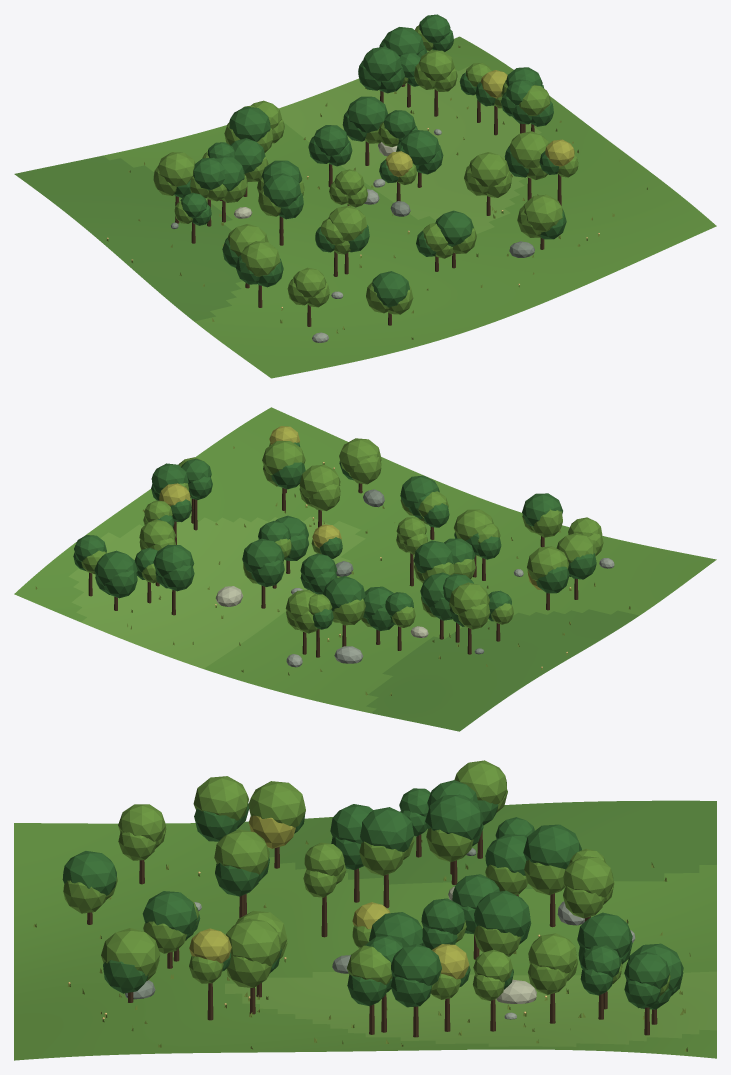
Rendered from Chunk_X1_Y0_Z-2.fbx.
3 renders of one model, top to bottom at view 1: azimuth 30°, elevation 25°; view 2: azimuth 150°, elevation 25°; view 3: azimuth 270°, elevation 25°, orthographic. The views are drawn at different scales.
Parts seen in each view (by area): view 1: Terrain.029, Canopies.028, Trunks.028, Rocks.029; view 2: Terrain.029, Canopies.028, Trunks.028, Rocks.029; view 3: Terrain.029, Canopies.028, Trunks.028, Rocks.029, GroundCover.029.
Part boxes in pixels (<box>): Terrain.029: <box>14,36,716,378</box>; Canopies.028: <box>153,14,578,314</box>; Trunks.028: <box>175,83,561,326</box>; Rocks.029: <box>171,129,534,342</box>; Terrain.029: <box>14,407,716,731</box>; Canopies.028: <box>73,426,603,633</box>; Trunks.028: <box>88,483,578,657</box>; Rocks.029: <box>215,489,614,667</box>; Terrain.029: <box>14,800,716,1060</box>; Canopies.028: <box>62,760,683,1009</box>; Trunks.028: <box>87,831,657,1037</box>; Rocks.029: <box>125,848,635,1019</box>; GroundCover.029: <box>33,840,690,1051</box>.
Size of the model in its own units: 100 by 23.86 by 100.
